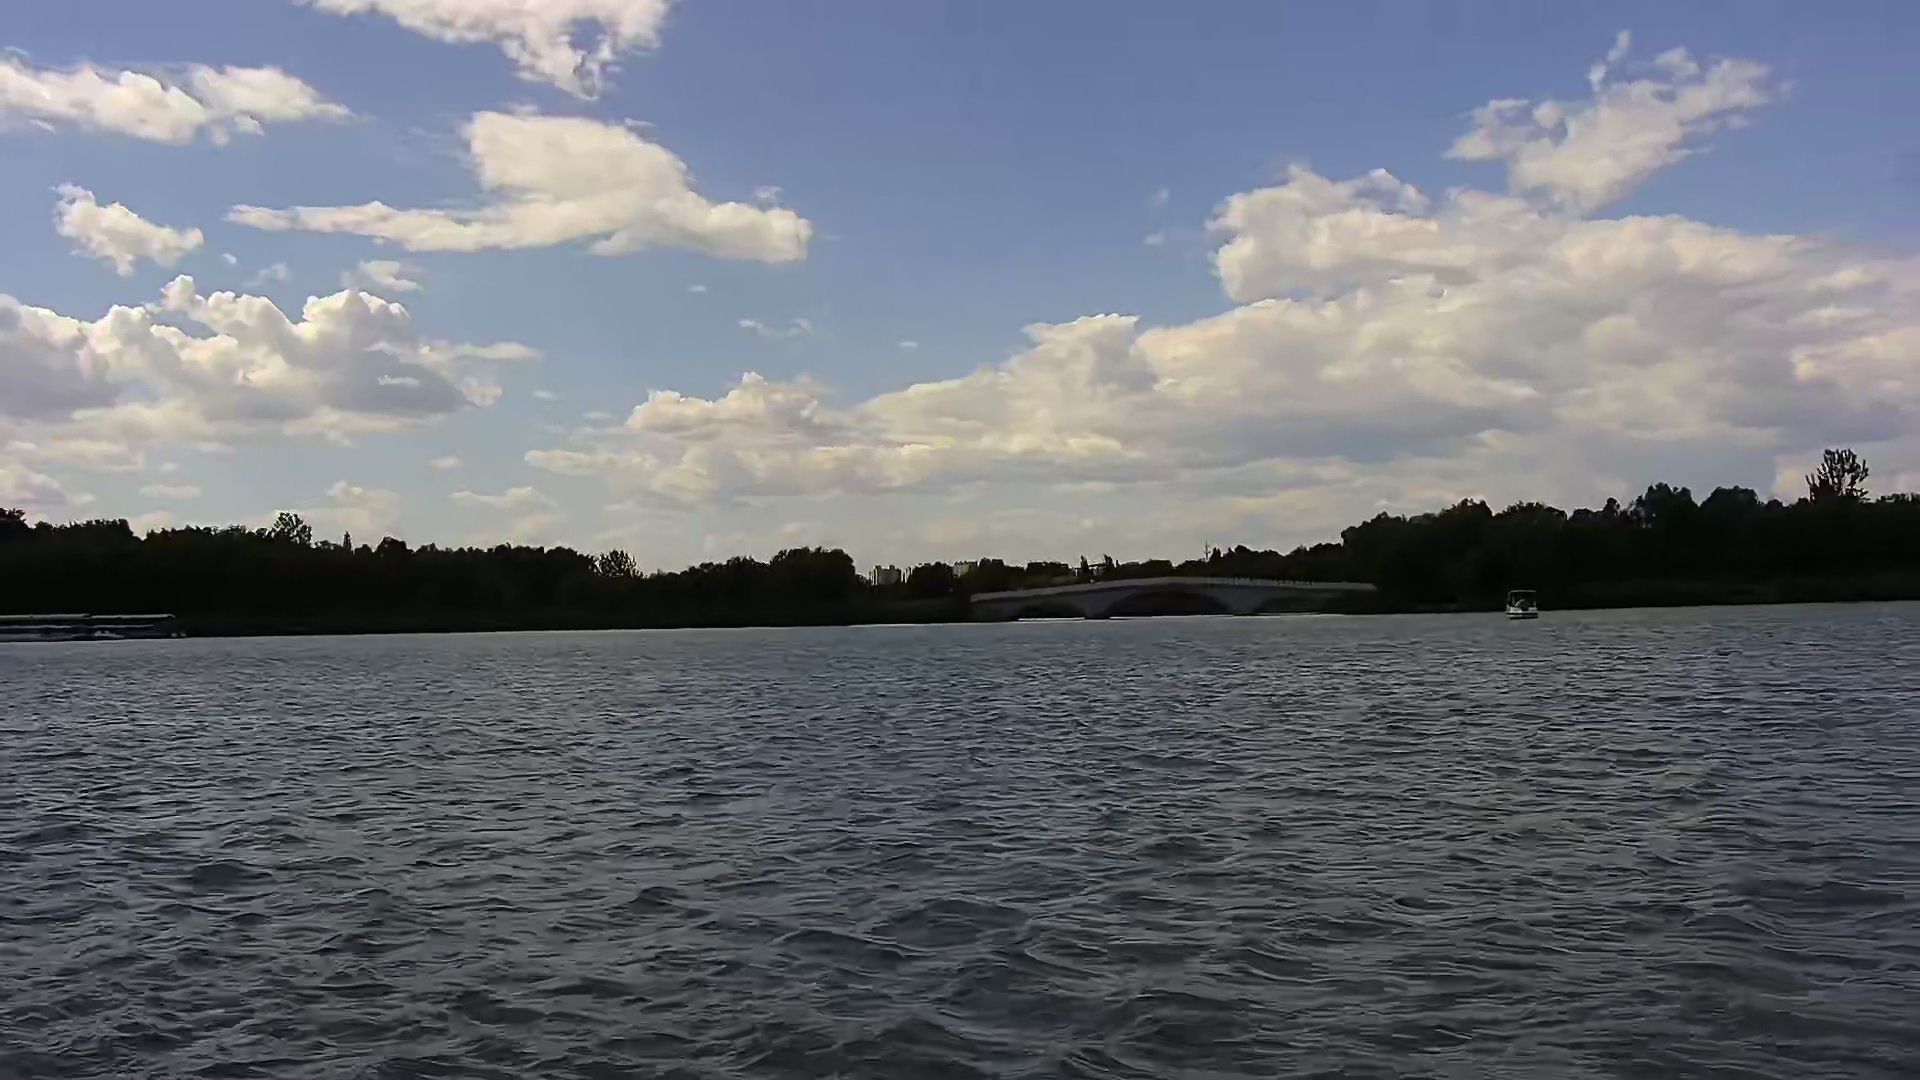boat: (1501, 578, 1553, 626)
bridge: (968, 570, 1391, 620)
